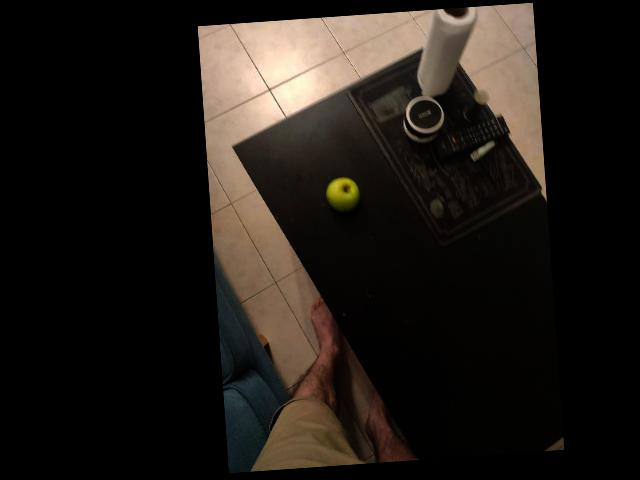apple: (320, 129, 383, 175)
